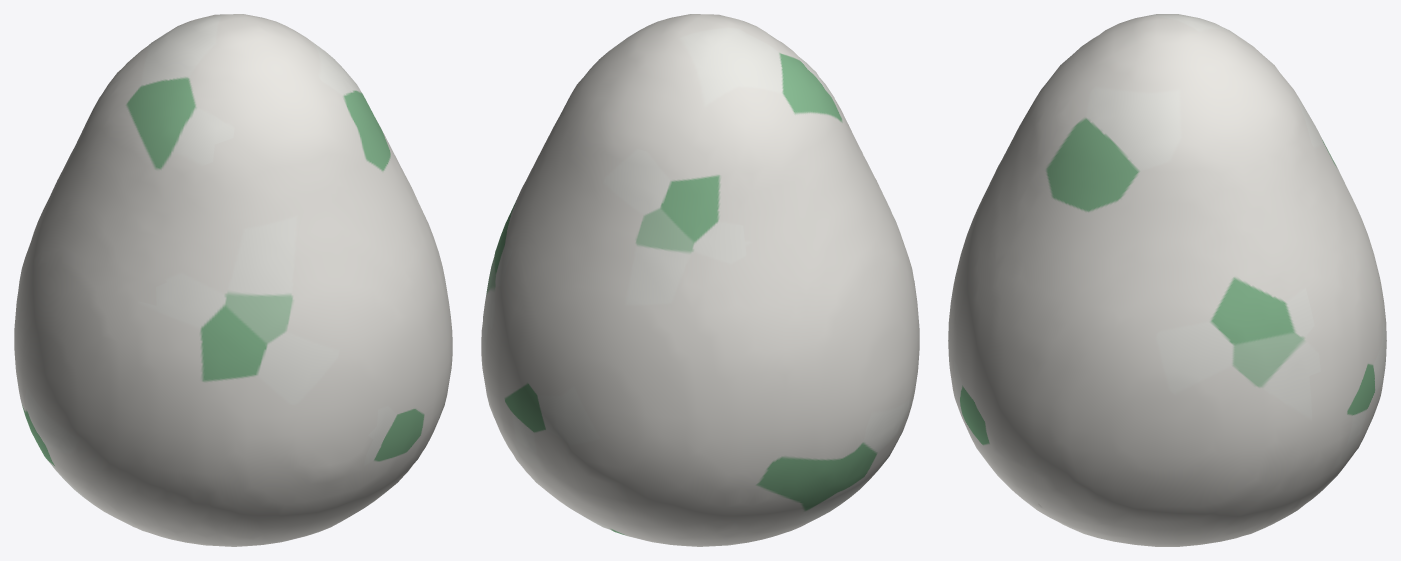
The model's file is egg.fbx.
3 renders of one model, left to right at view 1: azimuth 30°, elevation 25°; view 2: azimuth 150°, elevation 25°; view 3: azimuth 270°, elevation 25°, orthographic.
Visible parts, largest first — view 1: Icosphere; view 2: Icosphere; view 3: Icosphere.
Boxes of the visible parts, x1,y1,x2,y2 form: Icosphere: (14, 14, 452, 546); Icosphere: (481, 14, 919, 546); Icosphere: (948, 14, 1386, 546).
Size of the model in its own units: 206 by 256 by 206.
